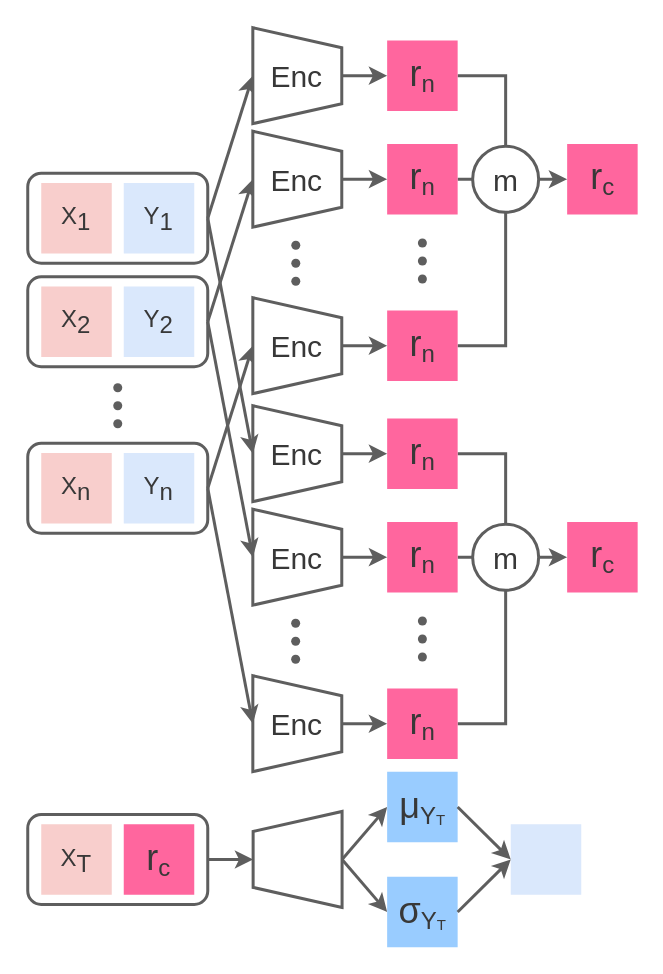
This 663x974 diagram has some shape labels left out. The centre of each missing label's shape, as x and y in pixels:
"Dec" belongs at [297,858].
"Y T" belongs at [545,859].
